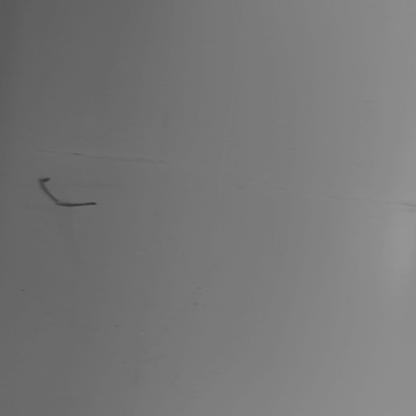fengxi: (34, 173, 106, 209)
